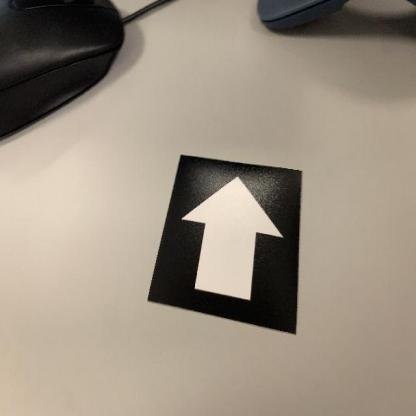up: (145, 152, 304, 342)
